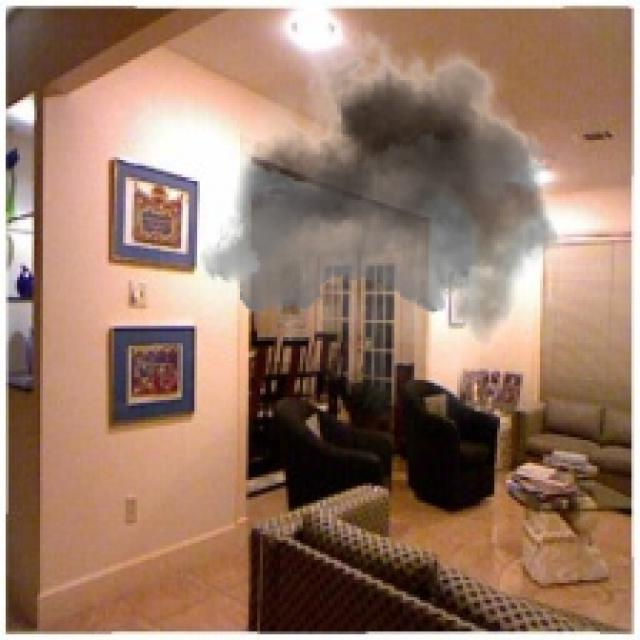smoke: (200, 8, 591, 423)
